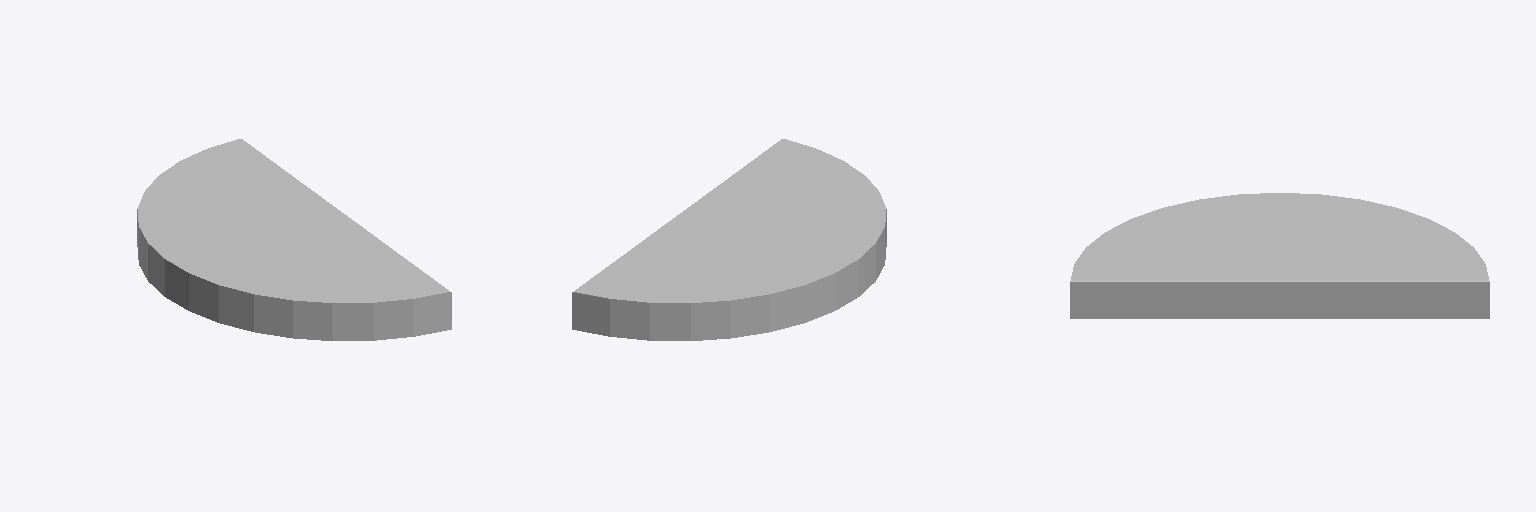
Rendered from PortalDoor_Half_01.obj.
3 renders of one model, left to right at view 1: azimuth 30°, elevation 25°; view 2: azimuth 150°, elevation 25°; view 3: azimuth 270°, elevation 25°, orthographic.
Parts seen in each view (by area): view 1: Cylinder.001; view 2: Cylinder.001; view 3: Cylinder.001.
Part boxes in pixels (x1,y1,x2,y2): Cylinder.001: (137, 139, 451, 340); Cylinder.001: (572, 139, 886, 340); Cylinder.001: (1070, 193, 1489, 318).
Size of the model in its own units: 1 by 0.2 by 2.